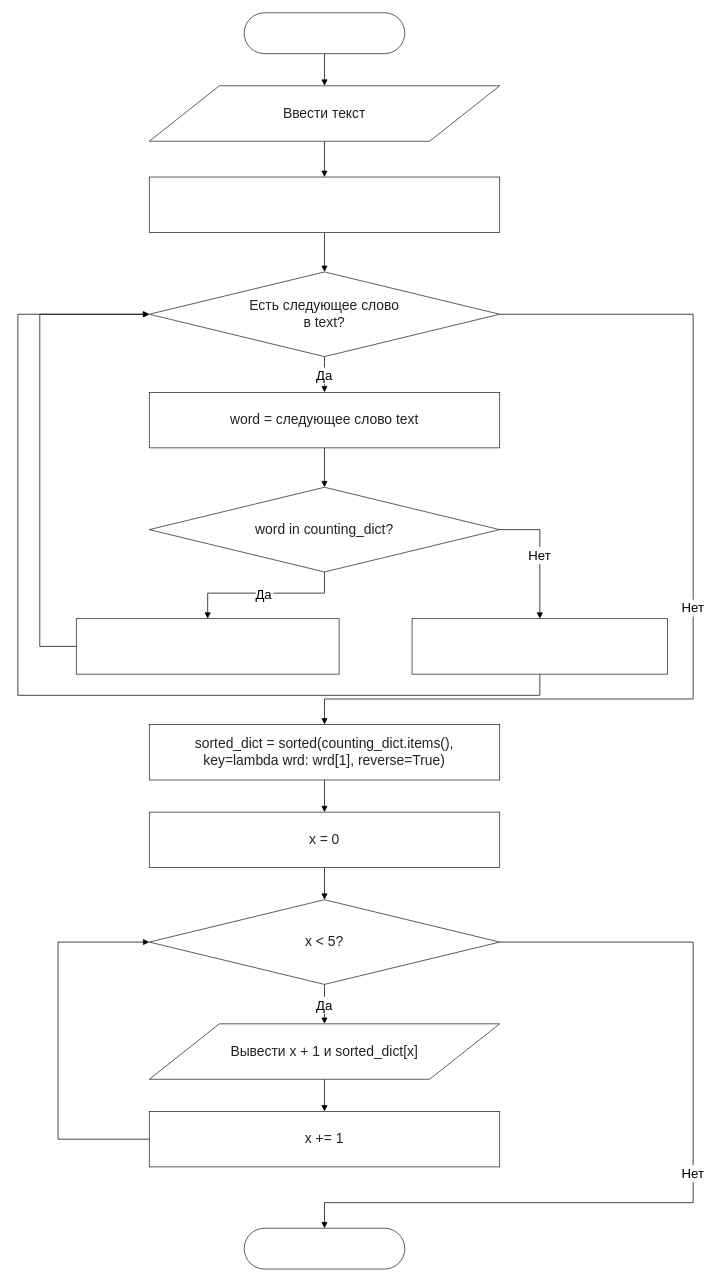
Some shapes in this 718 by 1282 pixel diagram are drawn without their labels. The shapes that lost their labels are listed below. From the top down, each one's centre as x and y in pixels, then its label:
At pixel 324 33: "Начало".
At pixel 324 204: "Текст → lower() → split() → tuple() counting_dict = {}".
At pixel 207 646: "counting_dict[word] += 1".
At pixel 539 646: "counting_dict[word] = 1".
At pixel 324 1248: "Конец".
